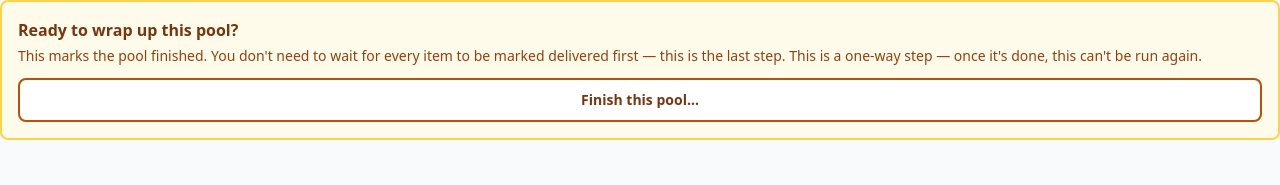
Test case: CompletePoolAction › shows a generic-conflict message on a 409
The image size is (1280, 185).
Click the button "Finish this pool…": {"x": 640, "y": 100} [18,78,1262,122]
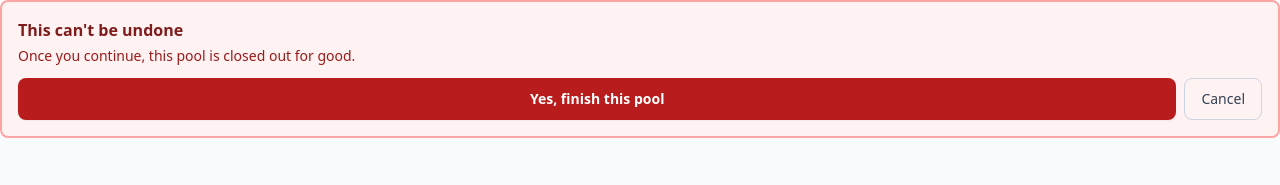
Click the button "Yes, finish this pool": {"x": 597, "y": 99} [18,78,1176,120]
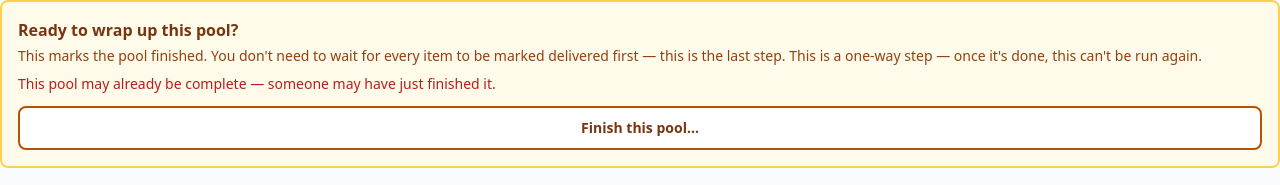
Check: the text "This pool may already be complete — someone may have just finished it." is shown, box [18,74,496,93]
